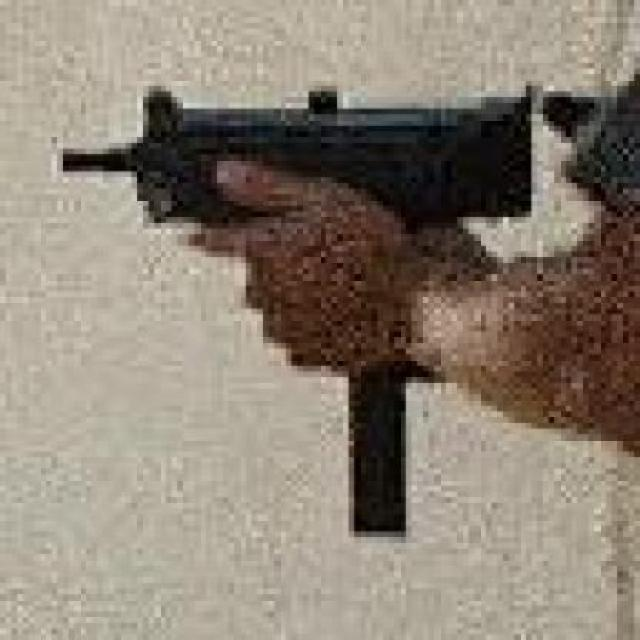rifle: (56, 75, 638, 228), (408, 191, 638, 454), (200, 151, 422, 372), (454, 83, 604, 263), (129, 84, 223, 224), (346, 367, 404, 536), (568, 71, 638, 211), (210, 153, 276, 210), (58, 144, 136, 172)
